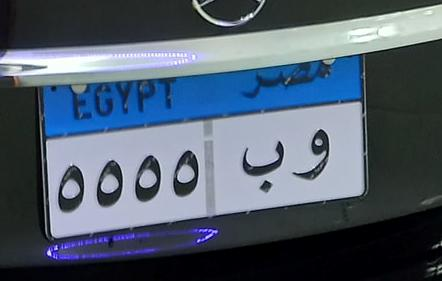5: (170, 132, 207, 207), (93, 147, 128, 222), (126, 139, 158, 219), (50, 155, 80, 227)
ب: (226, 122, 288, 198)
و: (292, 116, 339, 190)
